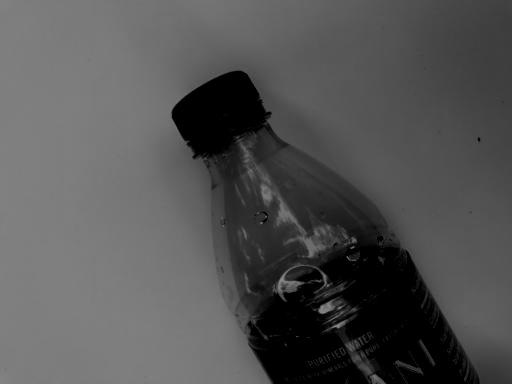bottle: (170, 60, 485, 384)
